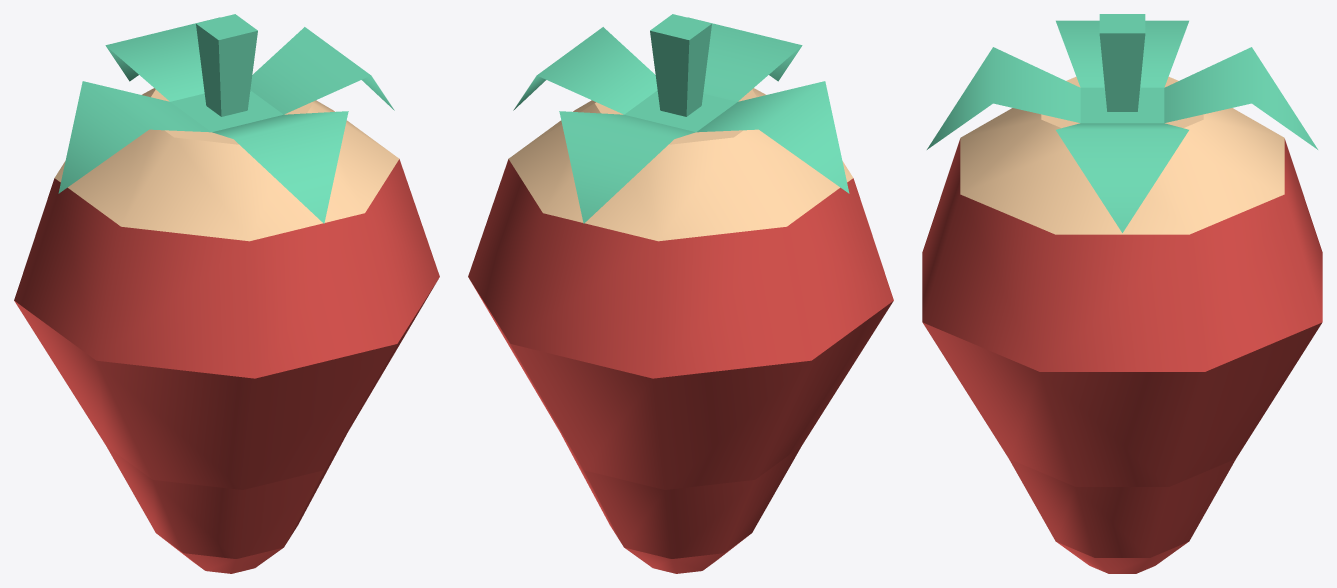
Rendered from Strawberry.glb.
The picture shows the model from 3 angles, left to right: view 1: azimuth 30°, elevation 25°; view 2: azimuth 150°, elevation 25°; view 3: azimuth 270°, elevation 25°; orthographic projection.
Visible parts, largest first — view 1: Strawberry; view 2: Strawberry; view 3: Strawberry.
Boxes of the visible parts, x1,y1,x2,y2 form: Strawberry: (14,14,439,573); Strawberry: (468,14,893,573); Strawberry: (922,14,1322,573).
Bounding box in the file's own units: 0.0537 × 0.0794 × 0.0537.
